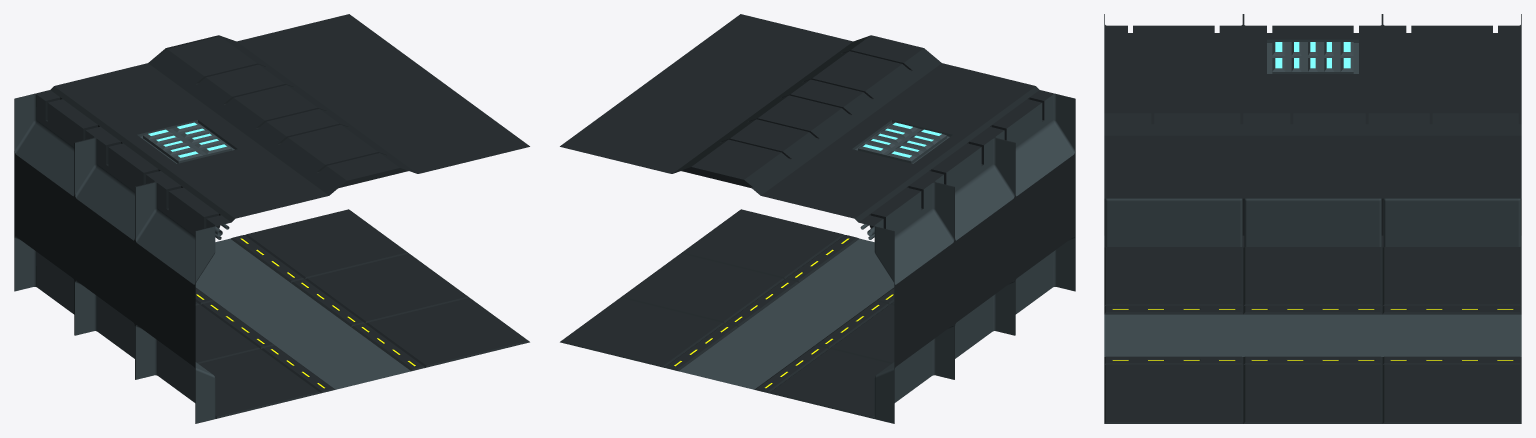
File: hallSide.fbx
3 renders of one model, left to right at view 1: azimuth 30°, elevation 25°; view 2: azimuth 150°, elevation 25°; view 3: azimuth 270°, elevation 25°, orthographic. The views are drawn at different scales.
Visible parts, largest first — view 1: hallSide; view 2: hallSide; view 3: hallSide.
Part boxes in pixels (box(x1,y1,x2,y2)): hallSide: box(14, 14, 529, 423); hallSide: box(560, 14, 1075, 423); hallSide: box(1104, 14, 1521, 423).
Size of what is drawn, in the model's own units: 6.4 by 6 by 3.77.
